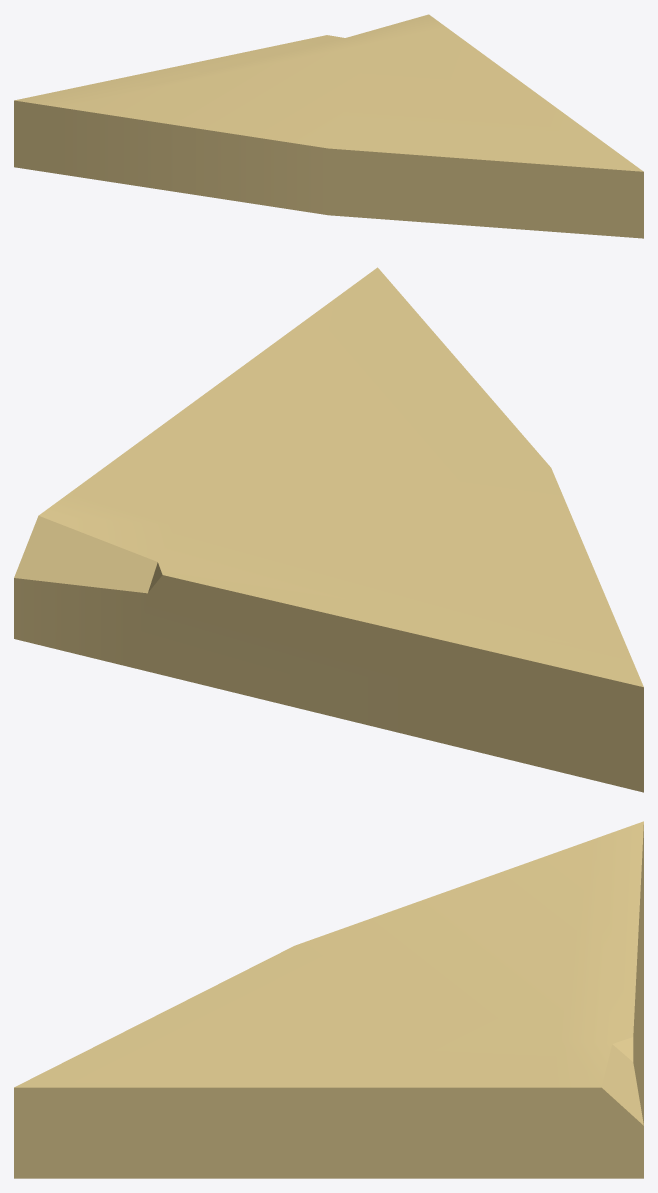
Rendered from Carved_Stones_9.fbx.
3 views of the same model, one above another, from view 1: azimuth 30°, elevation 25°; view 2: azimuth 150°, elevation 25°; view 3: azimuth 270°, elevation 25° (orthographic). The views are drawn at different scales.
Parts seen in each view (by area): view 1: MESH_Carved_Stones_9; view 2: MESH_Carved_Stones_9; view 3: MESH_Carved_Stones_9.
Boxes of the visible parts, bbox=[...] form: MESH_Carved_Stones_9: bbox=[14, 14, 643, 238]; MESH_Carved_Stones_9: bbox=[14, 267, 643, 792]; MESH_Carved_Stones_9: bbox=[14, 821, 643, 1178].
Size of the model in its own units: 1.79 by 0.286 by 1.79.
